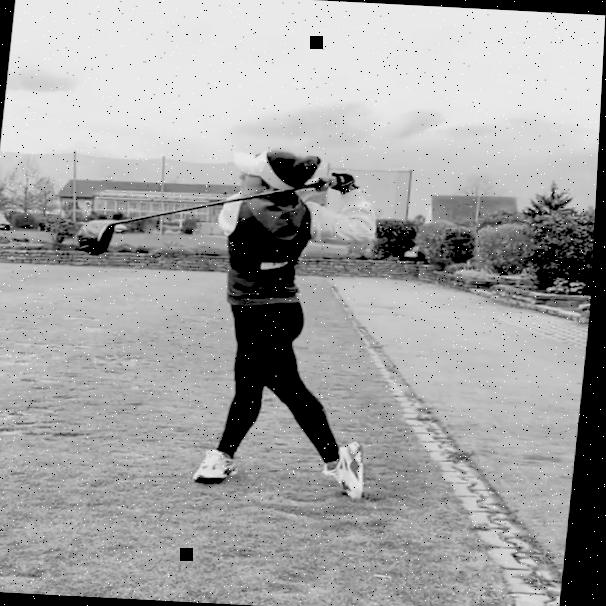ClubHead: (78, 218, 121, 255)
